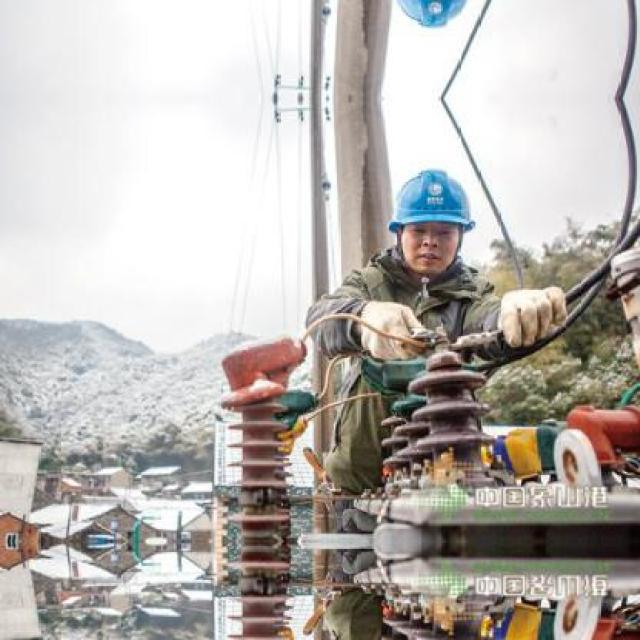helmet: (382, 159, 480, 281), (382, 0, 480, 39)
